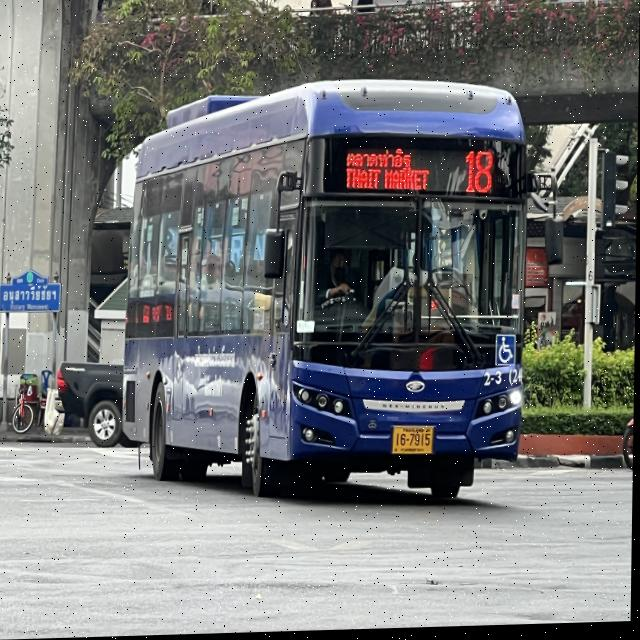Bus Line Number: (453, 141, 506, 203)
Bus Side Number: (481, 369, 526, 389)
Destination Sign: (344, 140, 435, 201)
TSB-Bus: (120, 82, 532, 504)
